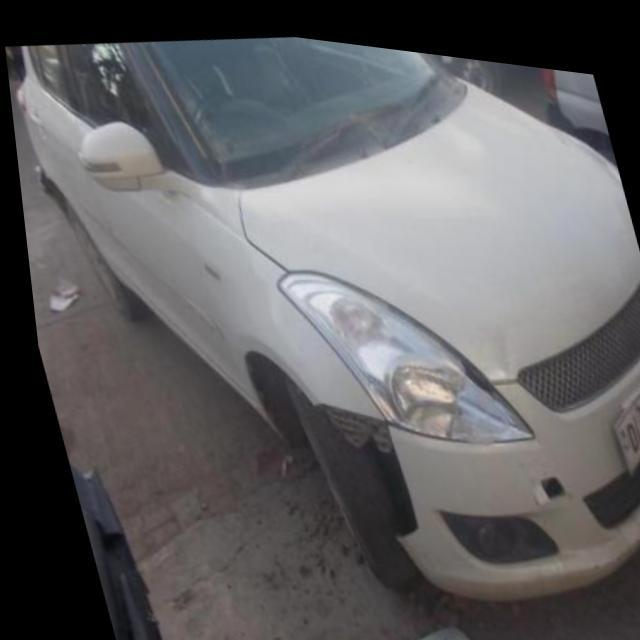crack: (525, 460, 560, 494)
dislocated part: (358, 279, 491, 379)
no part: (304, 394, 410, 527)
